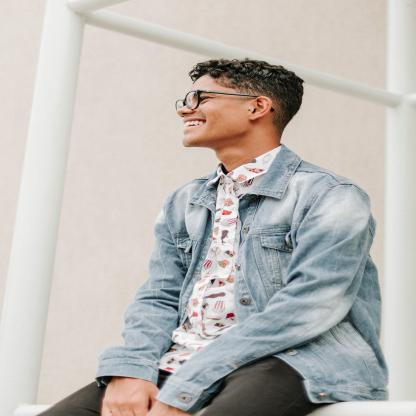Eye: (200, 96, 214, 104)
Mouth: (182, 117, 208, 134)
Nose: (177, 105, 196, 117)
